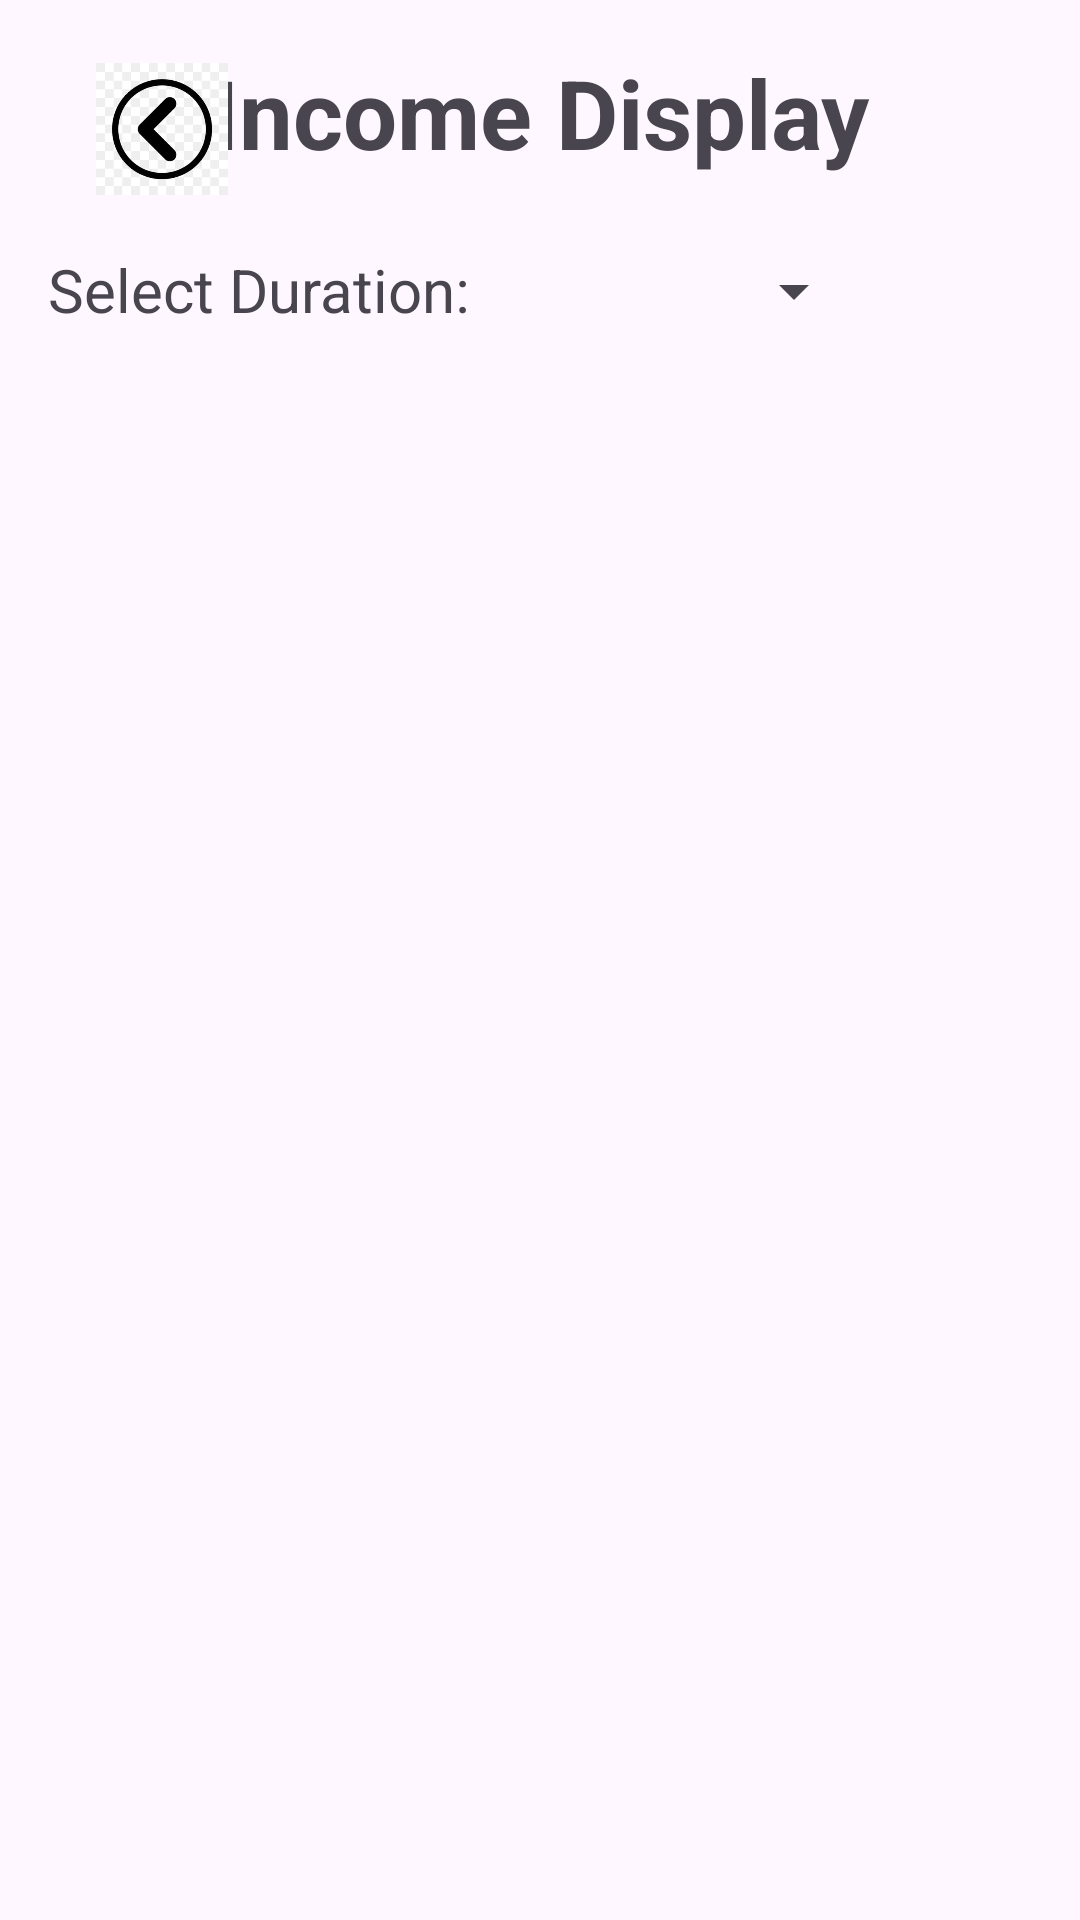

Screen size 1080w x 1920h. Icon name, then its box in pixels as (x1, y1, x2, y2):
back: (112, 79, 212, 180)
